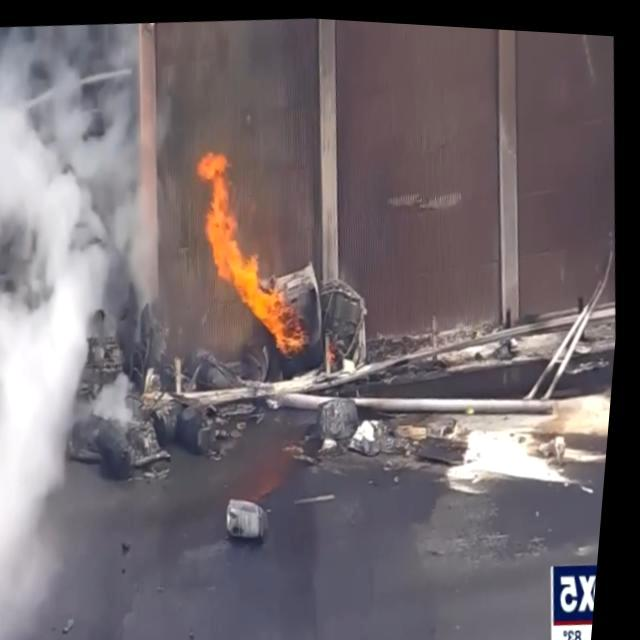fire: (188, 134, 324, 362)
